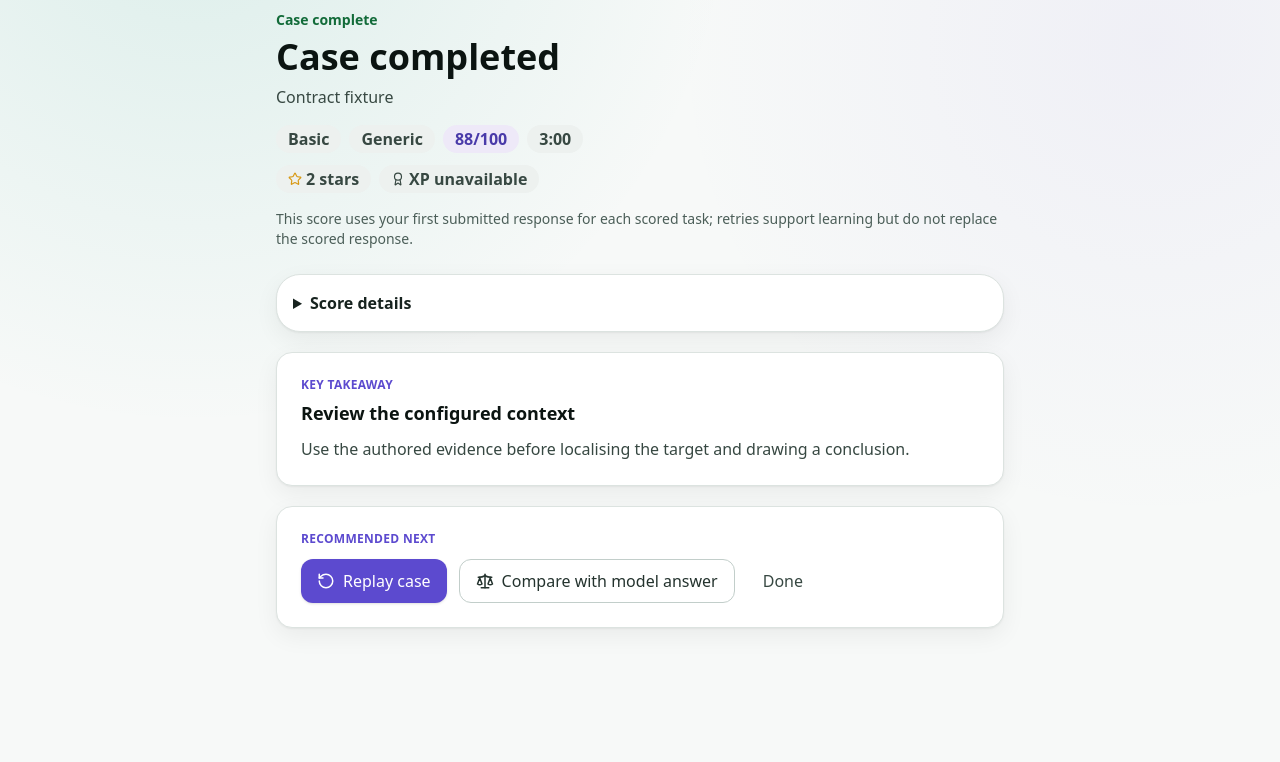
Scenario: Case Lab routes › renders saved results and switches to the model answer
The width and height of the screenshot is (1280, 762).
Expected: the text "88/100" is shown, x1=443 y1=125 x2=519 y2=153
Click the heading "Score details" at [361, 303], box x1=310 y1=292 x2=411 y2=314
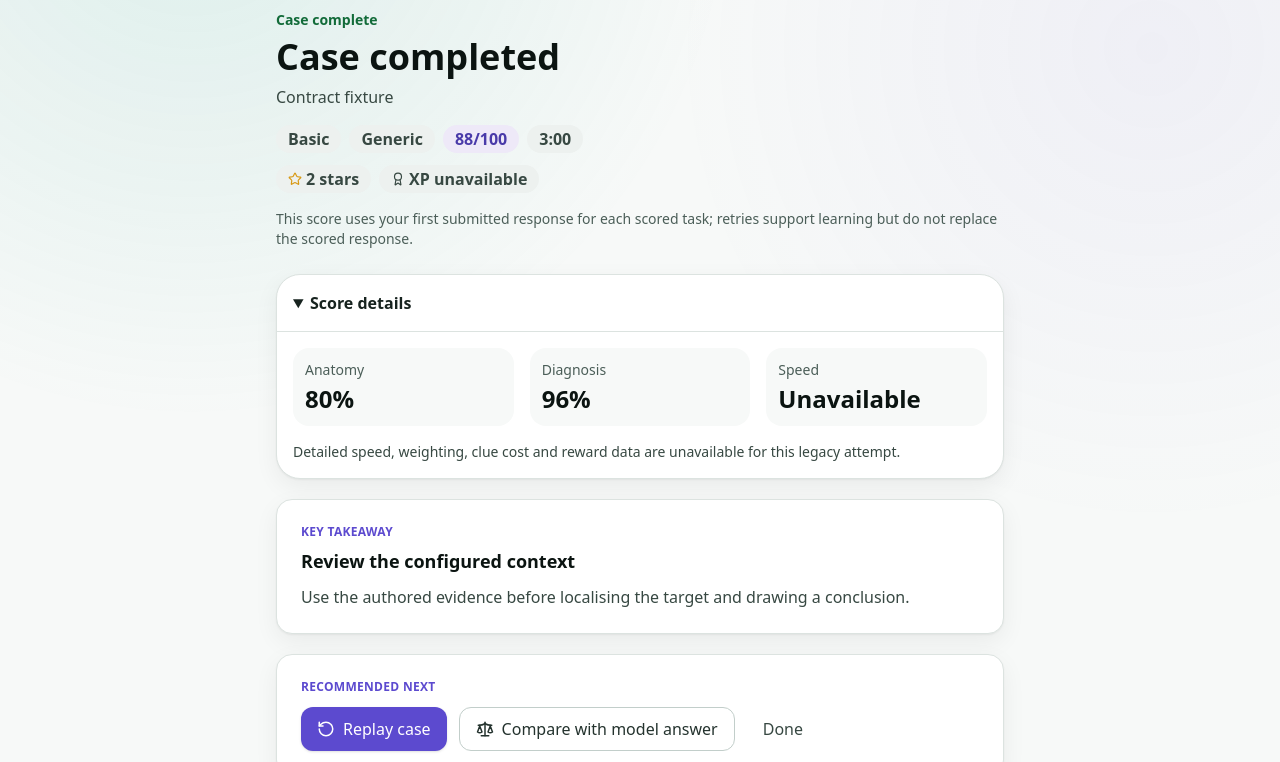
Expected: the text "unavailable for this legacy attempt" is shown, x1=293 y1=442 x2=900 y2=461
Click the button "Compare with model answer" at [597, 729], box x1=459 y1=707 x2=735 y2=751
(page scrolled)
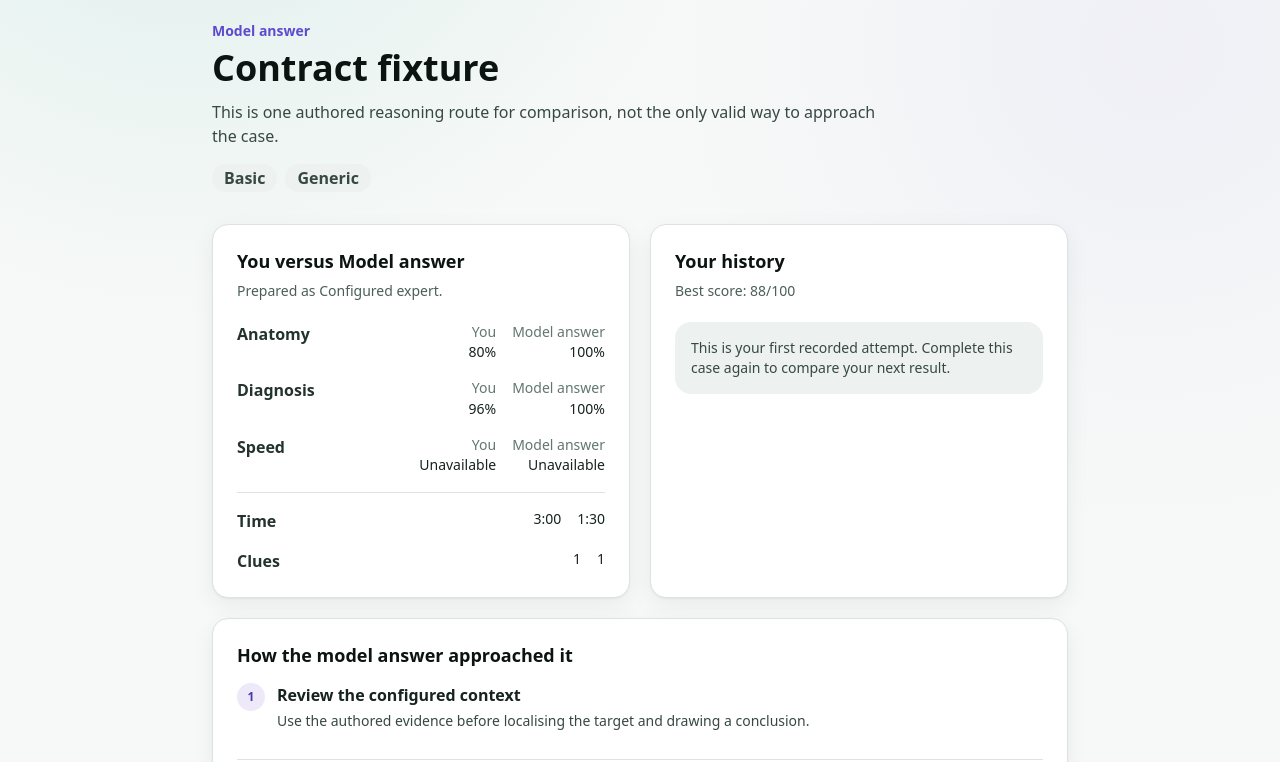
Expected: the 1st text "Model answer" is shown, x1=212 y1=21 x2=310 y2=40
Expected: the heading "You versus Model answer" is shown, x1=237 y1=249 x2=465 y2=273
